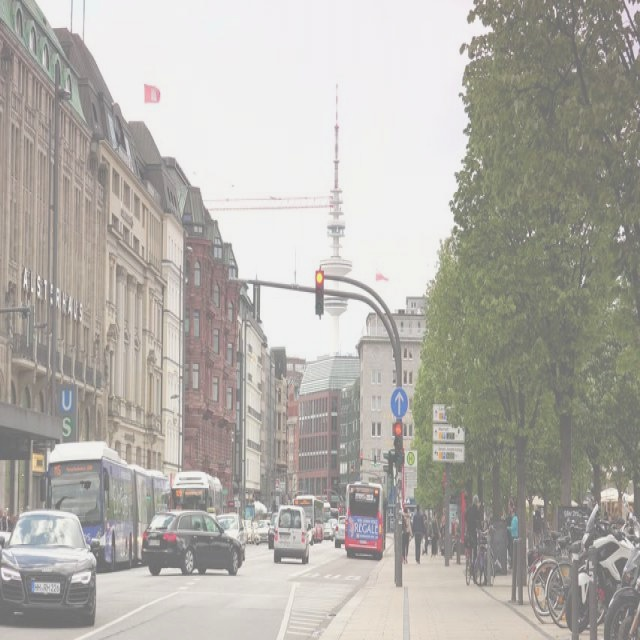pessoa: (464, 492, 484, 584), (0, 502, 32, 534), (411, 502, 426, 566), (506, 507, 518, 572), (602, 504, 634, 526), (530, 506, 544, 554), (428, 508, 441, 559), (402, 506, 411, 566), (438, 512, 446, 556), (422, 513, 430, 556), (420, 512, 426, 556), (507, 496, 515, 515)
